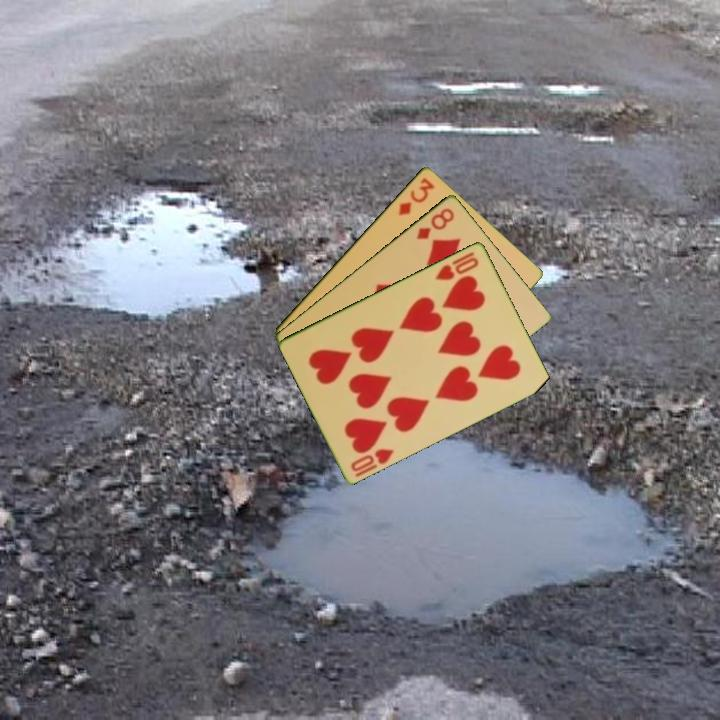10h: (347, 444, 397, 479), (431, 253, 482, 283)
3d: (395, 174, 438, 218)
8d: (413, 204, 457, 242)
